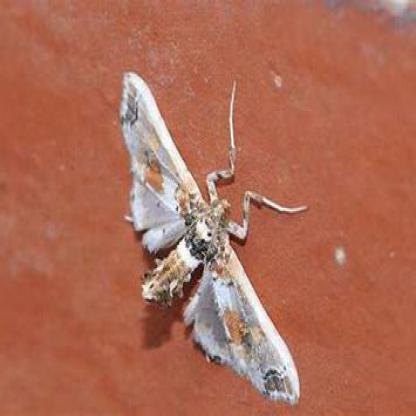leucinodes: (124, 71, 300, 401)
